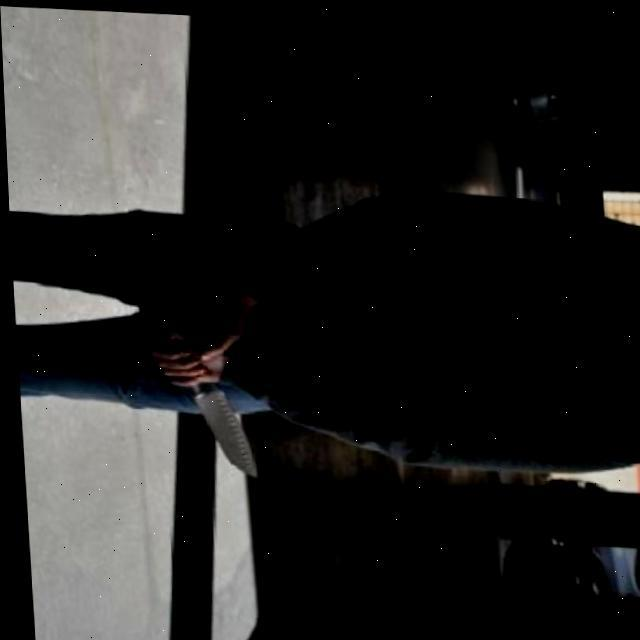knife: (152, 331, 255, 477)
